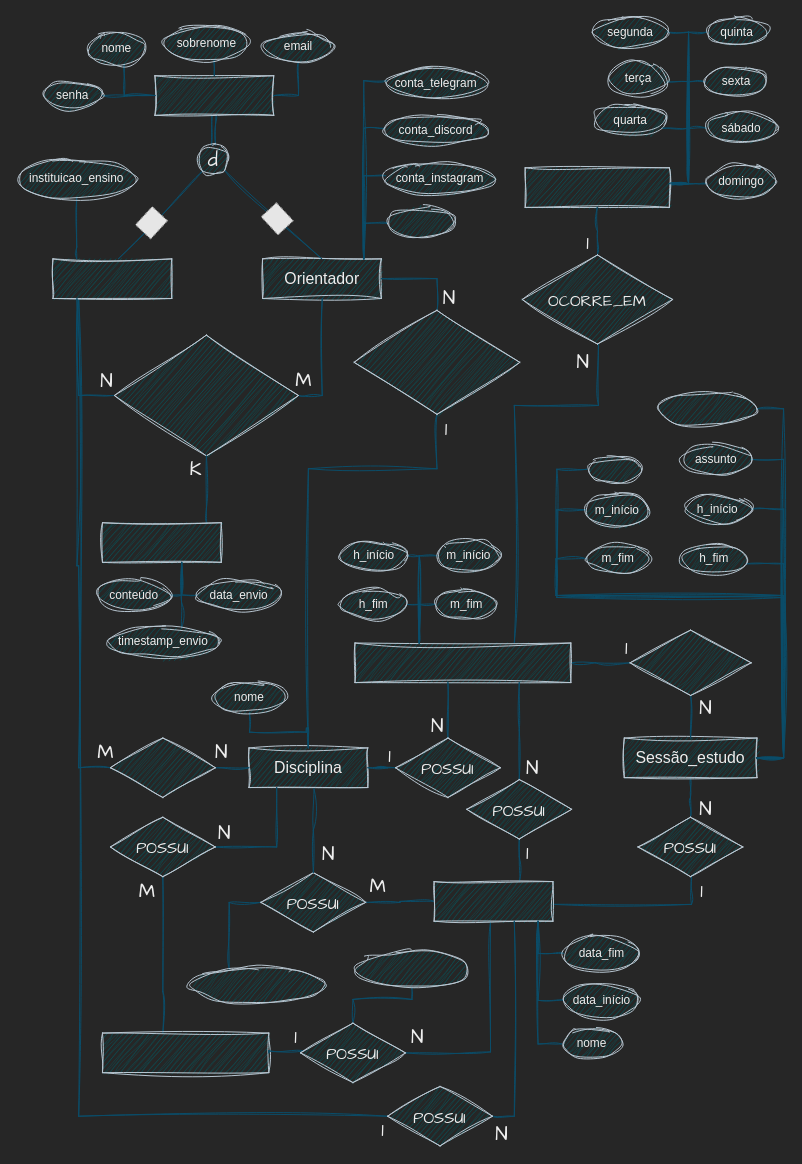
The diagram is 802 pixels wide and 1164 high, and some of its shapes have lost their labels. Grey dashed boxes stand in for pictures. The shapes that lost their labels are listed below. From the top down, each one's box as (x1, y1, x2, y2) in pixels, then its label:
(154, 75, 274, 115): Usuário
(524, 167, 669, 207): Dia_semana
(386, 205, 456, 238): telefone
(52, 258, 172, 298): Aluno
(353, 309, 520, 414): TIRA_DÚVIDAS _SOBRE
(113, 334, 298, 456): TIRA_DÚVIDAS_DE
(657, 391, 757, 426): foi_realizada
(586, 455, 640, 483): data
(101, 522, 221, 562): Mensagem
(354, 642, 571, 683): Sessão_estudo_periódica
(629, 629, 751, 695): COMPÕE
(109, 737, 215, 797): PAGA
(433, 881, 553, 921): Cronograma
(189, 967, 325, 1003): peso_tempo_estudo
(354, 950, 469, 988): intenção_uso
(101, 1032, 269, 1073): Disciplinas_padrão
